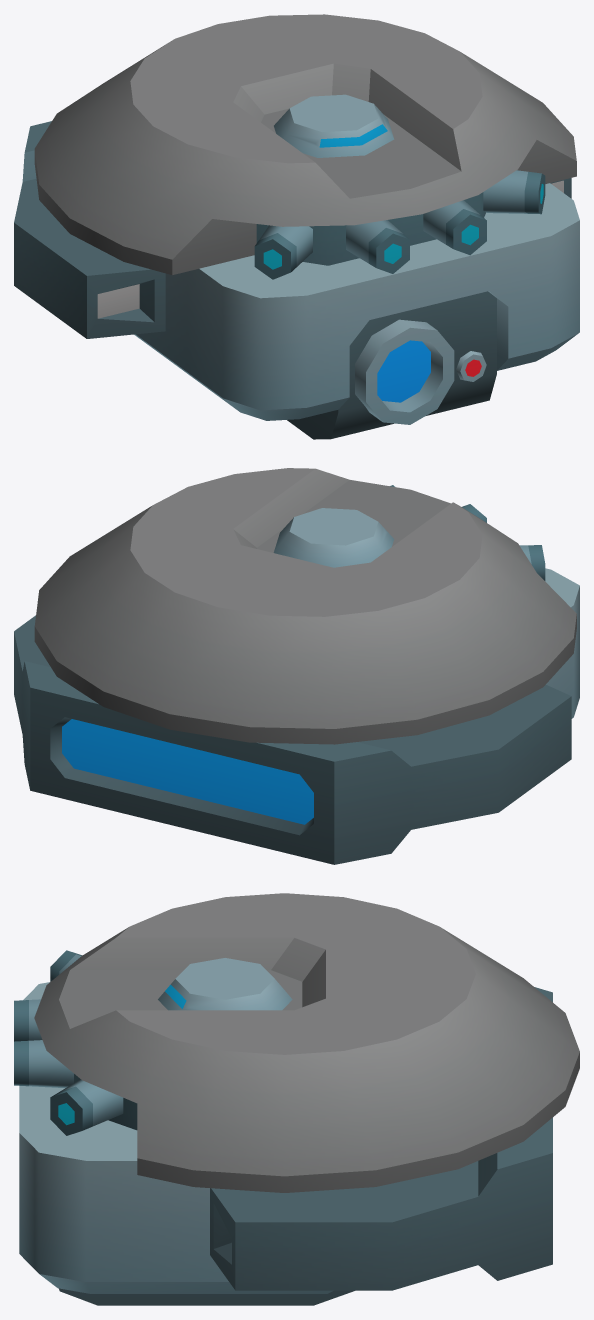
The model's file is Drone_001.glb.
The picture shows the model from 3 angles, top to bottom: view 1: azimuth 30°, elevation 25°; view 2: azimuth 150°, elevation 25°; view 3: azimuth 270°, elevation 25°; orthographic projection. The views are drawn at different scales.
Parts seen in each view (by area): view 1: Drone_001; view 2: Drone_001; view 3: Drone_001.
Part boxes in pixels (<box>): Drone_001: <box>14,14,579,439</box>; Drone_001: <box>14,468,579,864</box>; Drone_001: <box>14,893,579,1305</box>.
Bounding box in the file's own units: 0.5329 × 0.2818 × 0.4985.
Materials: 2 (2 with a texture image).
